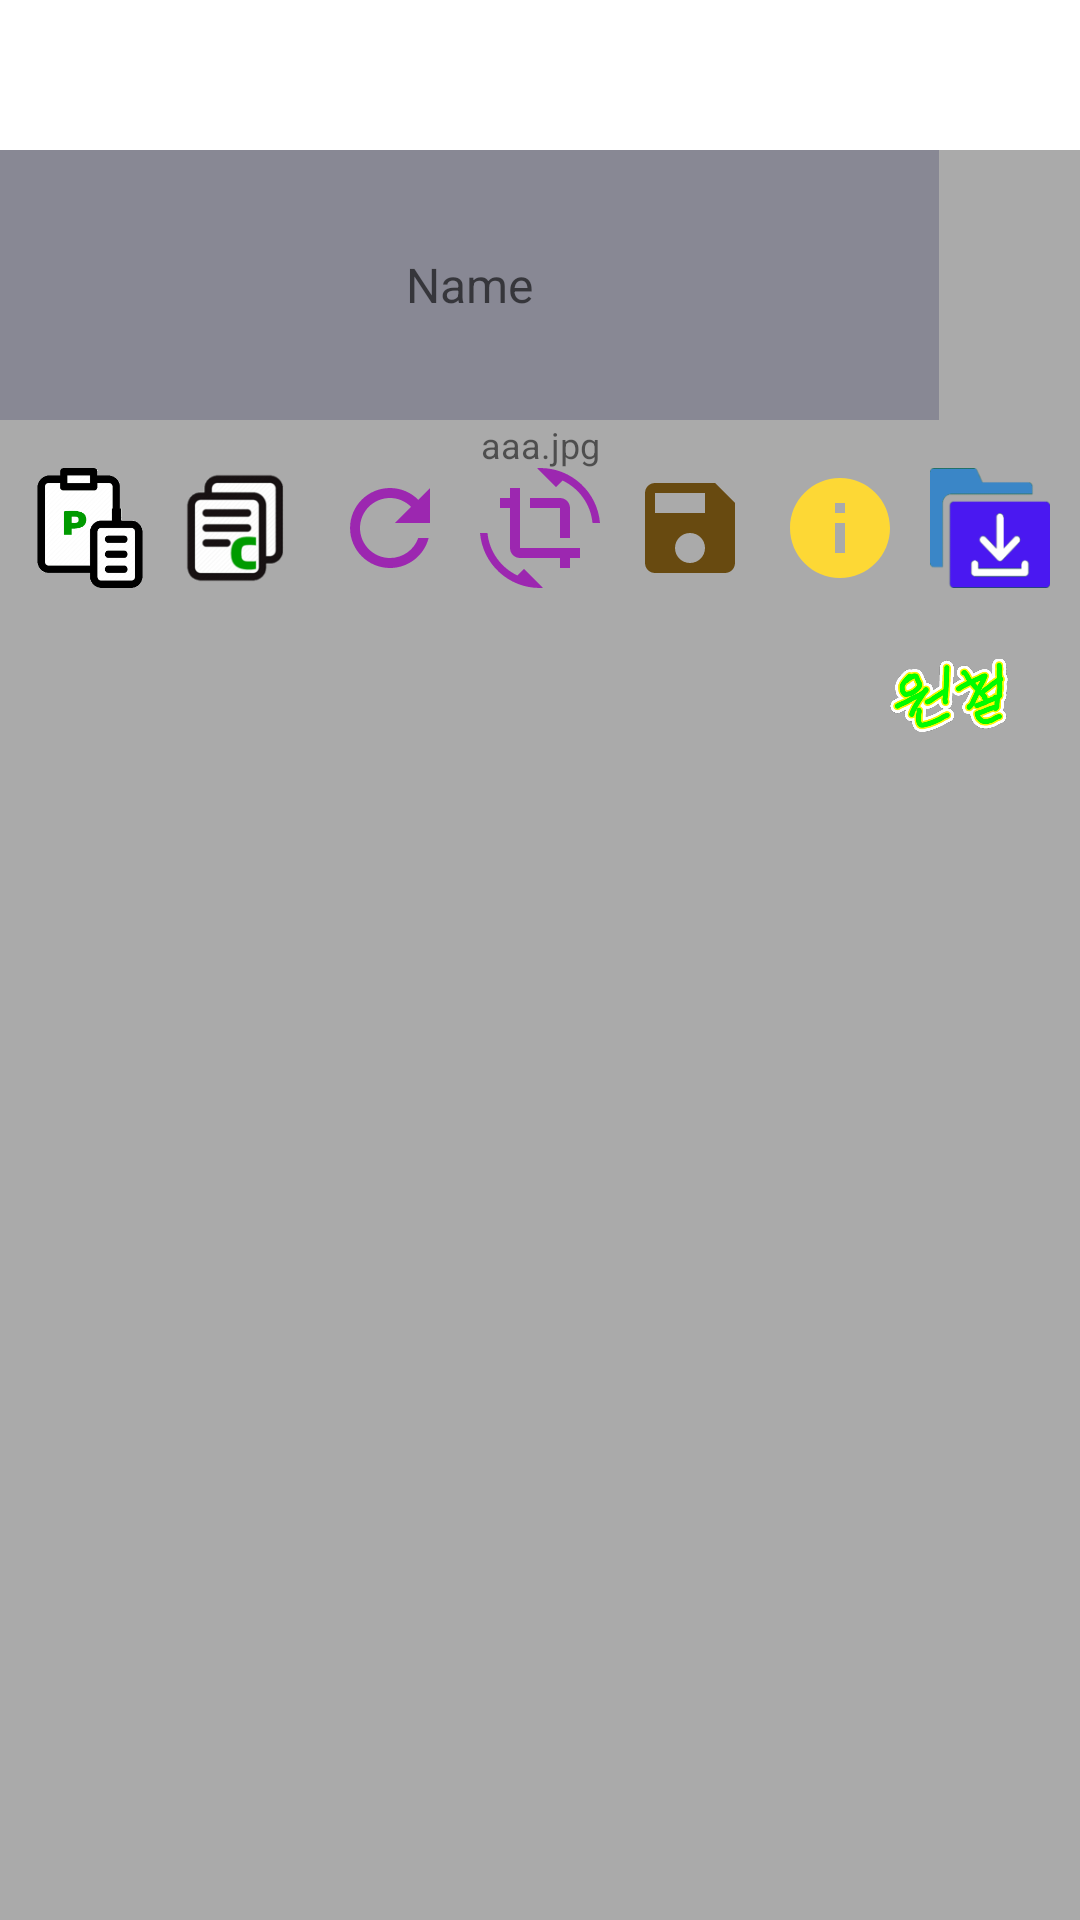

Named icons in this screenshot (1080 x 1920) and their bounding boxes, (x1, y1, x2, y2):
information: (790, 478, 890, 578)
refresh: (350, 488, 430, 568)
rotate: (480, 468, 600, 588)
save rotate: (645, 483, 735, 573)
text paste: (37, 468, 143, 588)
